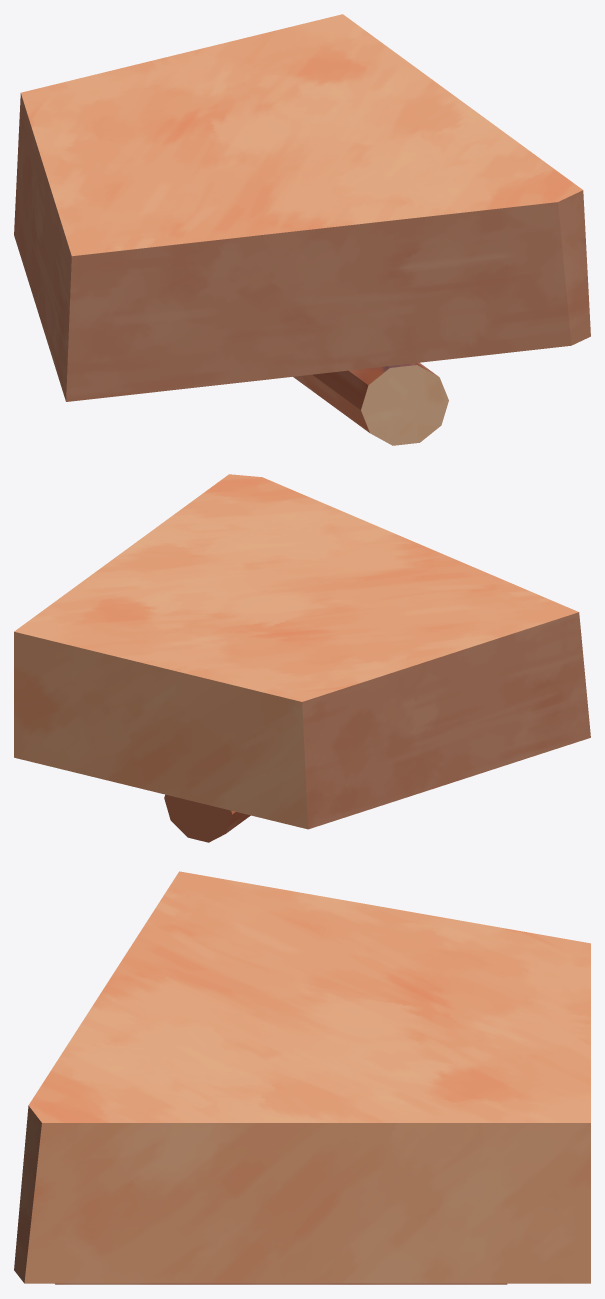
File: roof_s03.fbx
The picture shows the model from 3 angles, top to bottom: view 1: azimuth 30°, elevation 25°; view 2: azimuth 150°, elevation 25°; view 3: azimuth 270°, elevation 25°; orthographic projection. The views are drawn at different scales.
Visible parts, largest first — view 1: roof_s03; view 2: roof_s03; view 3: roof_s03.
Boxes of the visible parts, x1,y1,x2,y2 form: roof_s03: (14, 14, 590, 445); roof_s03: (14, 474, 590, 842); roof_s03: (14, 871, 590, 1284).
Size of the model in its own units: 3.63 by 1.65 by 3.45.
